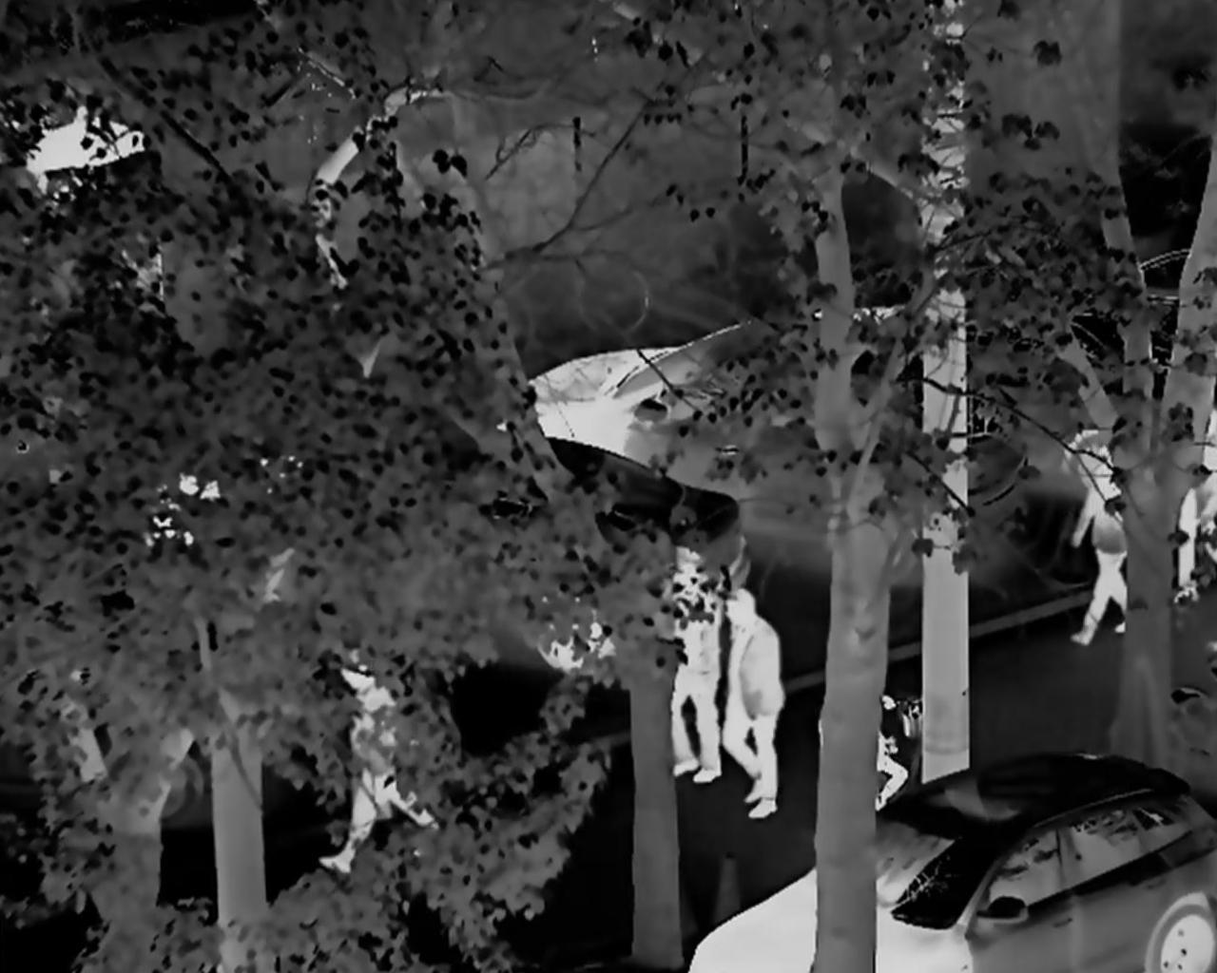person: (310, 659, 443, 878), (650, 538, 737, 791), (1060, 430, 1141, 658), (722, 583, 784, 825), (1171, 433, 1217, 599)
